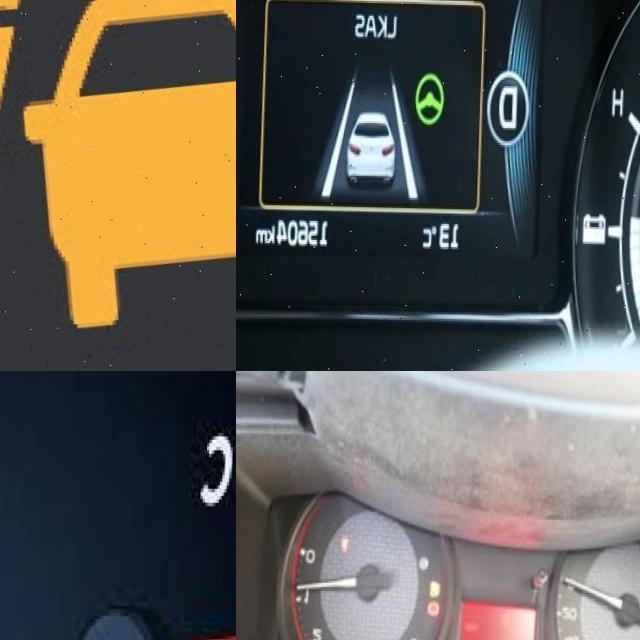Seat Belt: (342, 535, 350, 554)
